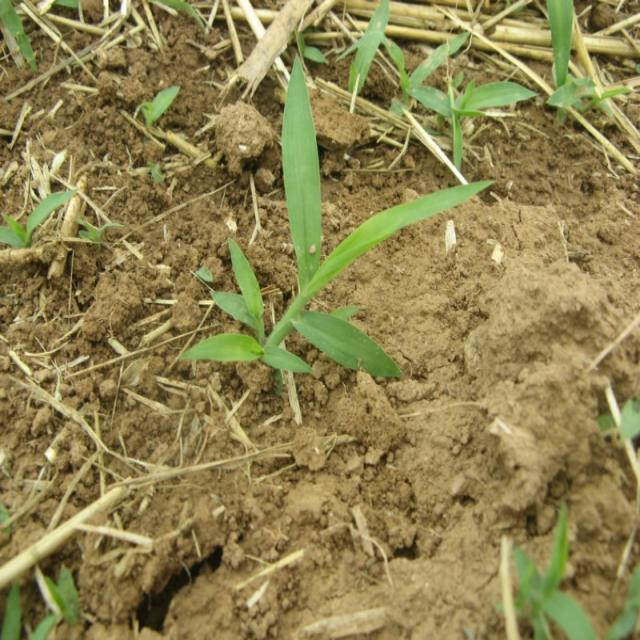bg: (190, 55, 488, 386)
